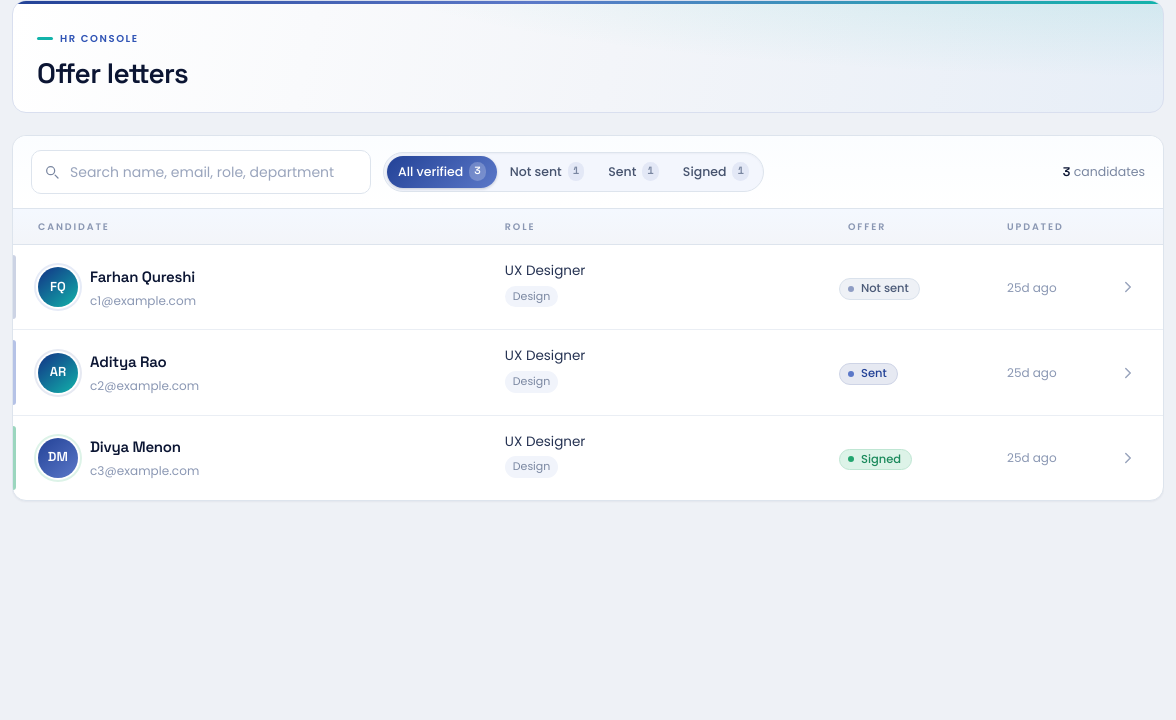
Scenario: OffersPage search › says so on a miss, and hands back a way to clear it
This screenshot has width=1176, height=720.
Check: the text "Aditya Rao" is shown, box [90,352,166,371]
Step 1. Type "Zebediah" into the field named "Search offers" → (201, 172), box [31,150,371,194]
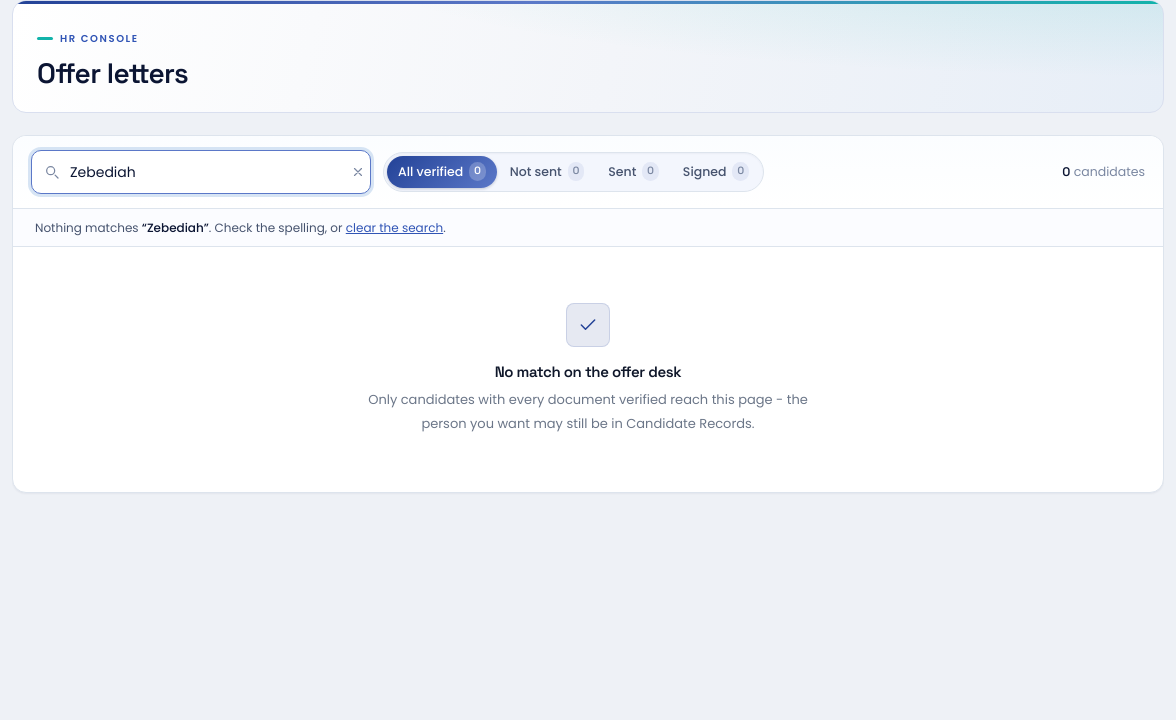
Check: the heading "No match on the offer desk" is shown, box [495,363,681,382]
Step 2. Click the button "clear the search" → (394, 228), box [346,218,443,237]
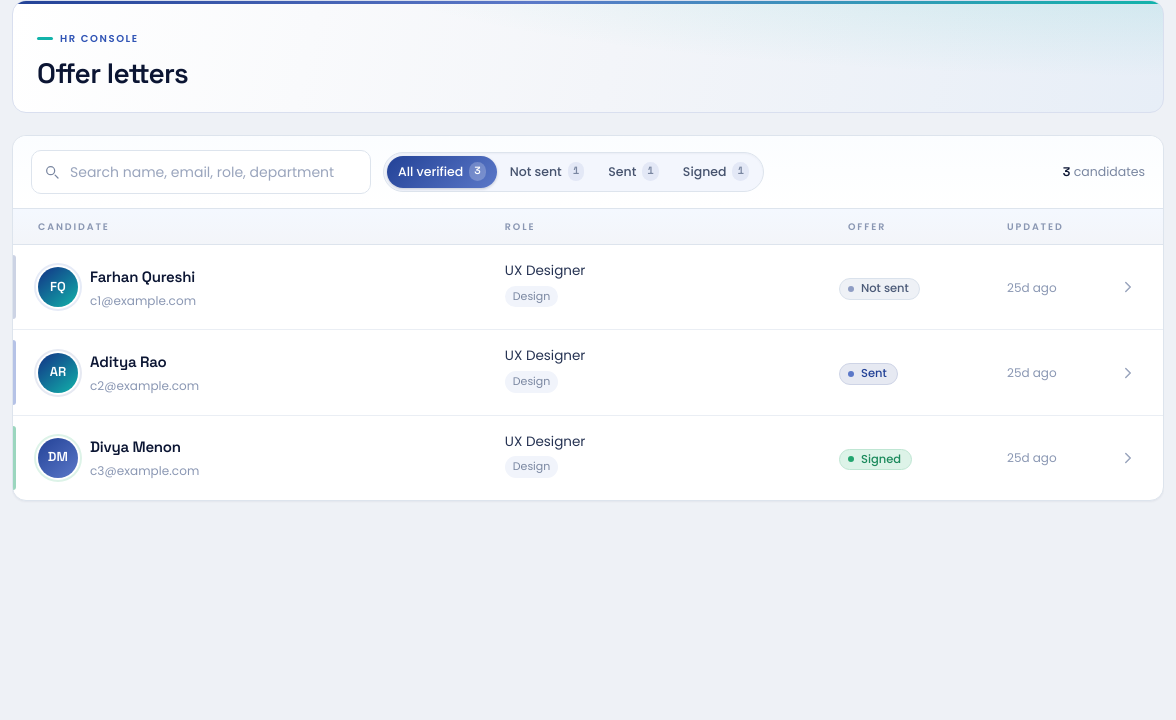
Check: the text "Aditya Rao" is shown, box [90,352,166,371]
